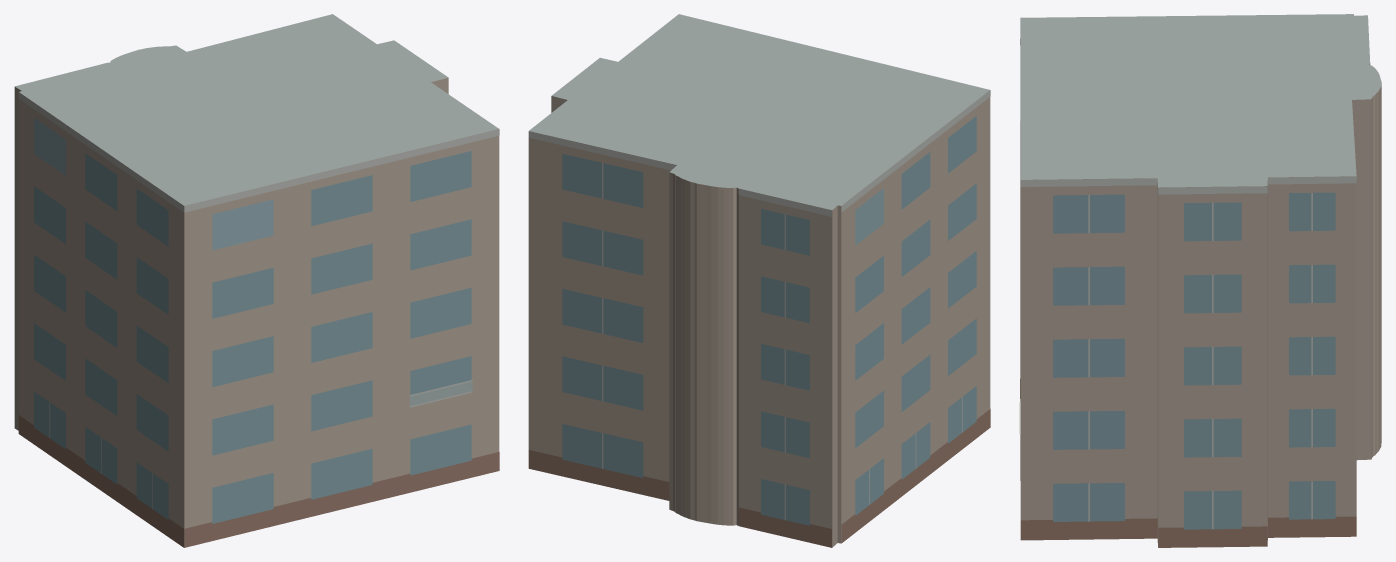
The model's file is survey-upis-32655877.glb.
The picture shows the model from 3 angles, left to right: view 1: azimuth 30°, elevation 25°; view 2: azimuth 150°, elevation 25°; view 3: azimuth 270°, elevation 25°; orthographic projection. The views are drawn at different scales.
Visible parts, largest first — view 1: survey-upis-32655877.tmp; view 2: survey-upis-32655877.tmp; view 3: survey-upis-32655877.tmp.
Part boxes in pixels (x1,y1,x2,y2): survey-upis-32655877.tmp: (14, 14, 499, 547); survey-upis-32655877.tmp: (528, 14, 990, 547); survey-upis-32655877.tmp: (1019, 14, 1381, 547).
Size of the model in its own units: 12.81 by 12.4 by 11.3.
